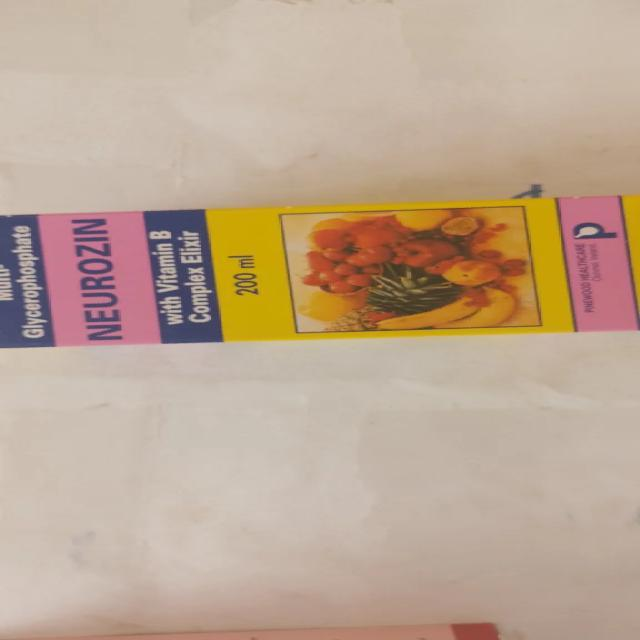drug-name: (56, 214, 138, 342)
